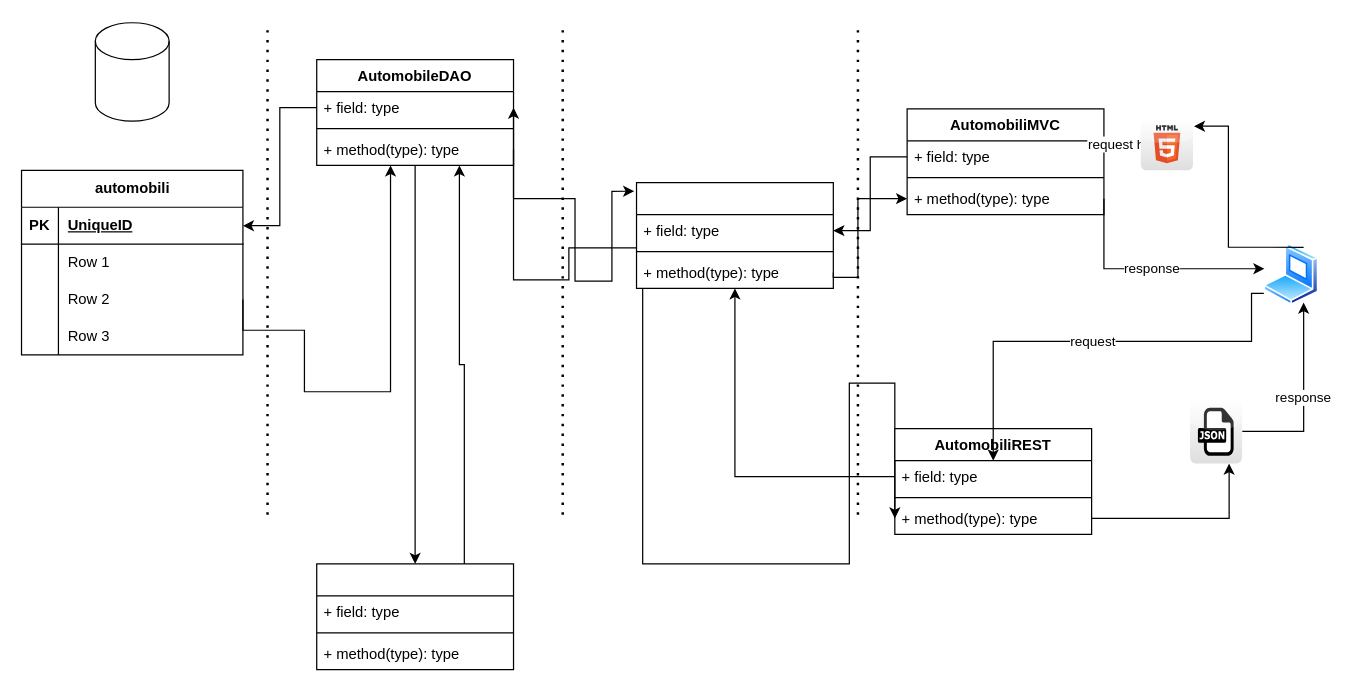
Image size: 1353x694. Some labels were removed from this diagram. The box of each missing label's shape, as (x1, y1, x2, y2) in pixels:
Automobile: (315, 563, 514, 670)
AutomobileService: (635, 181, 833, 288)
